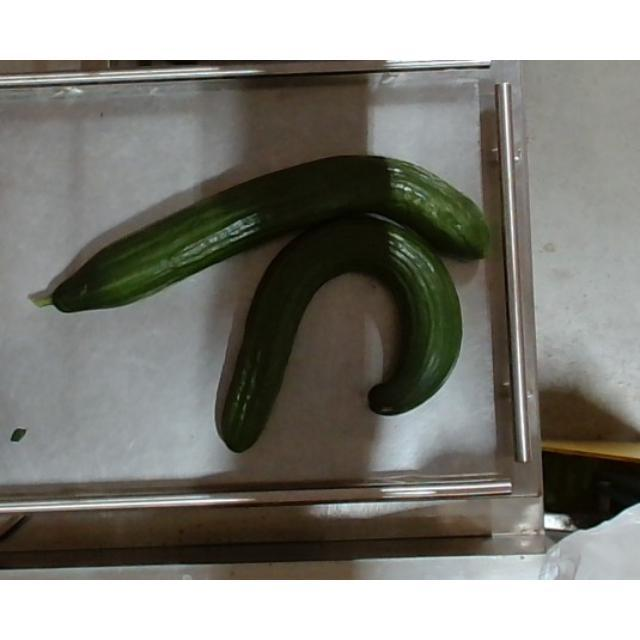cucumber: (35, 154, 491, 314), (220, 210, 464, 454)
